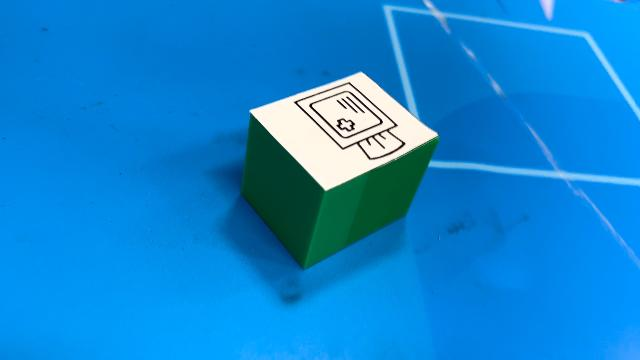napkin: (240, 70, 438, 270)
